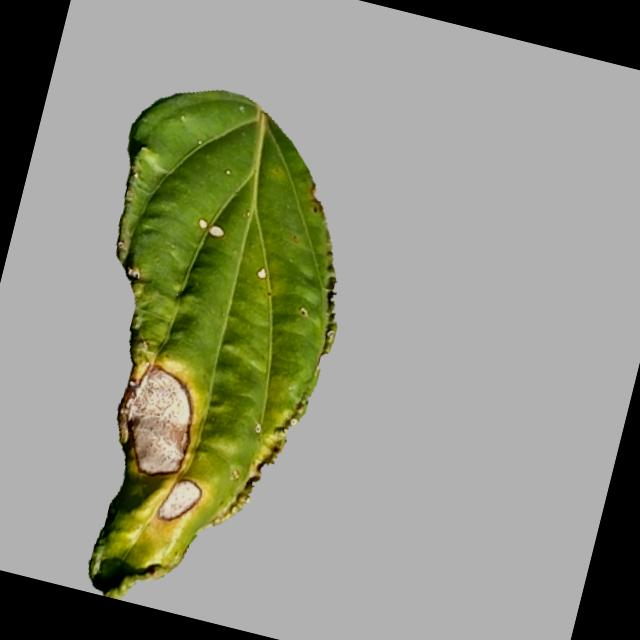leaf-blight: (13, 71, 400, 632)
